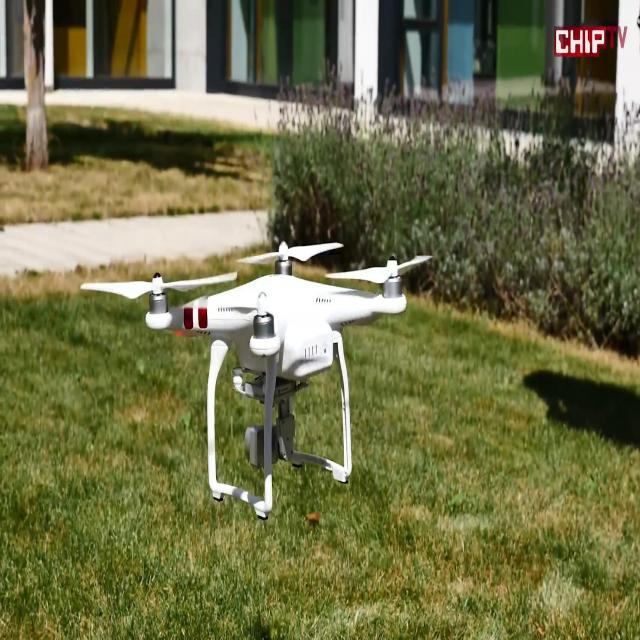drones: (74, 221, 439, 548)
